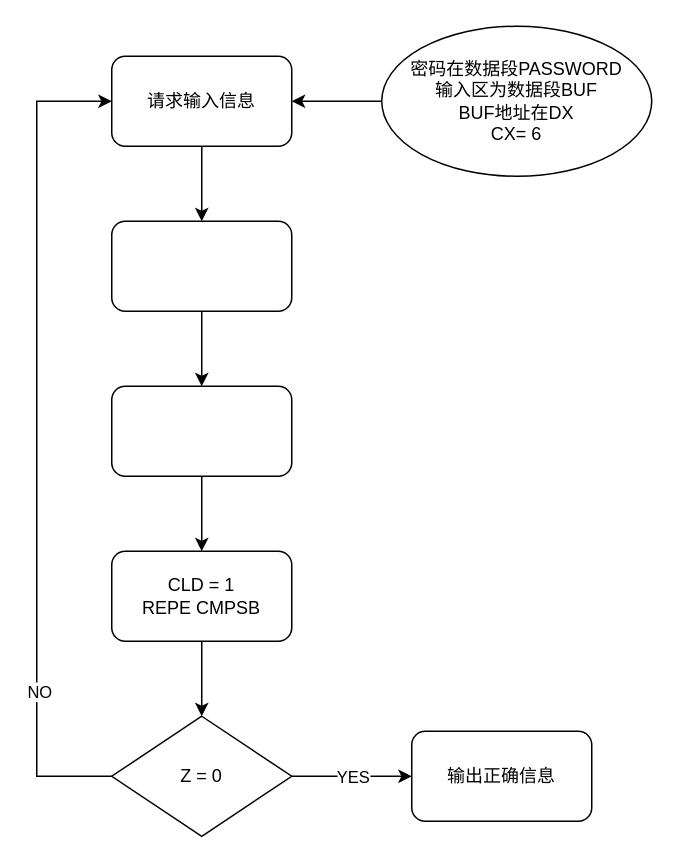
The diagram is 678 pixels wide and 863 high, and some of its shapes have lost their labels. Each missing label, with the box of its shape:
0AH->AH INT 21H: (110, 220, 292, 311)
SI=OFFEST BUF+2 DI=OFFEST PASSWORD: (110, 385, 292, 476)
